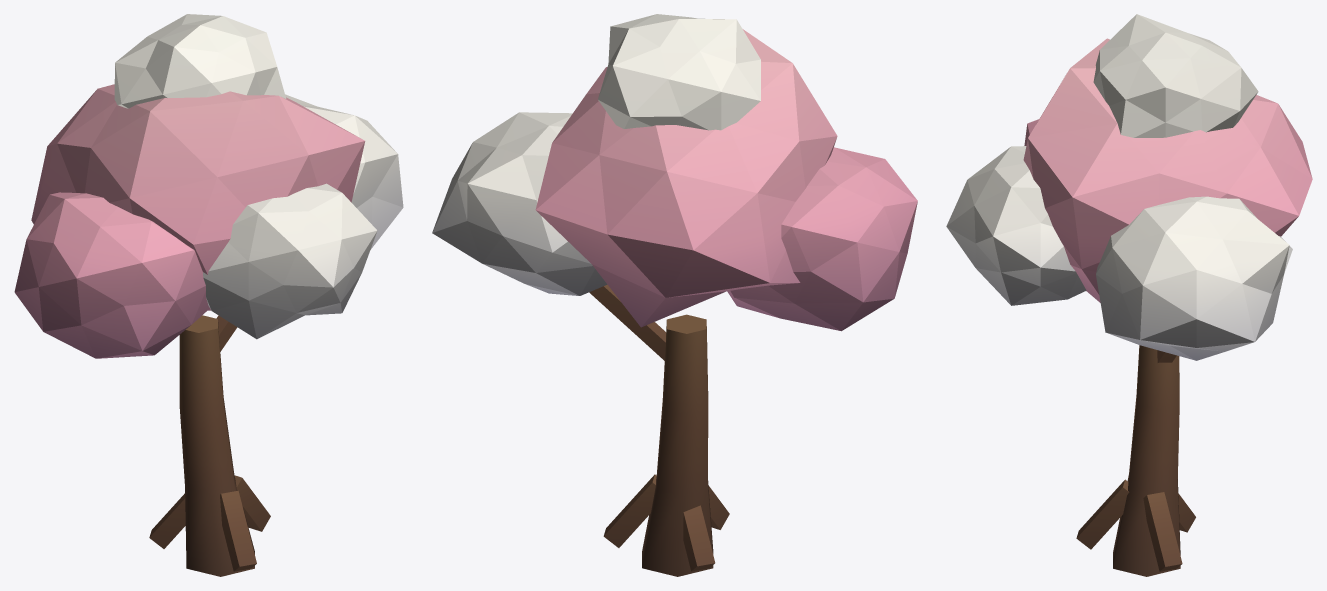
File: tree_blossom.glb
3 renders of one model, left to right at view 1: azimuth 30°, elevation 25°; view 2: azimuth 150°, elevation 25°; view 3: azimuth 270°, elevation 25°, orthographic. The views are drawn at different scales.
Visible parts, largest first — view 1: tree_blossom; view 2: tree_blossom; view 3: tree_blossom.
Part boxes in pixels (left/top/right/bottom): tree_blossom: left=14, top=14, right=403, bottom=576; tree_blossom: left=432, top=14, right=917, bottom=576; tree_blossom: left=946, top=14, right=1312, bottom=576.
Size of the model in its own units: 14.22 by 18.49 by 11.74.
1 material, 1 textured.
